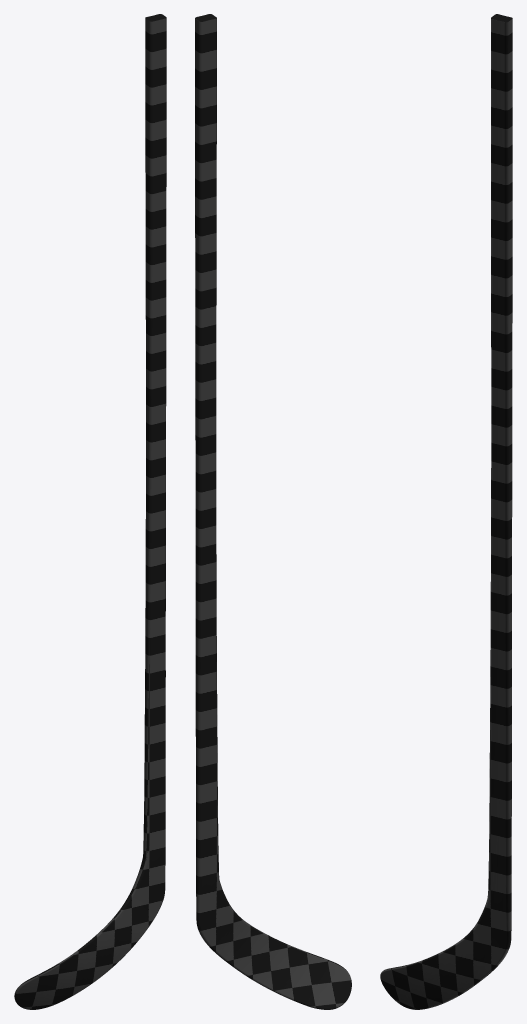
Rendered from P77-SBT.glb.
3 renders of one model, left to right at view 1: azimuth 30°, elevation 25°; view 2: azimuth 210°, elevation 25°; view 3: azimuth 330°, elevation 25°, orthographic. The views are drawn at different scales.
Parts seen in each view (by area): view 1: geometry_0; view 2: geometry_0; view 3: geometry_0.
Boxes of the visible parts, box(x1,y1,x2,y2) form: geometry_0: box(14, 14, 166, 1009); geometry_0: box(195, 14, 351, 1009); geometry_0: box(380, 14, 512, 1009).
Bounding box in the file's own units: 241 × 1650 × 60.76.
1 material, 1 textured.
